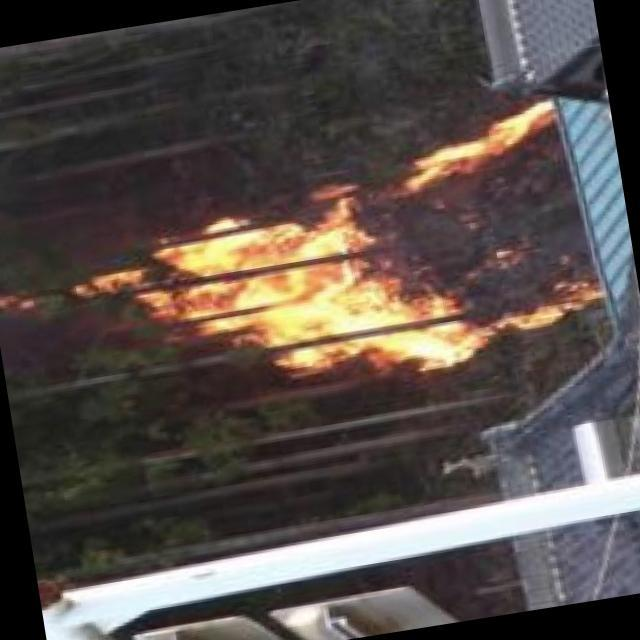Fire: (75, 104, 608, 420)
